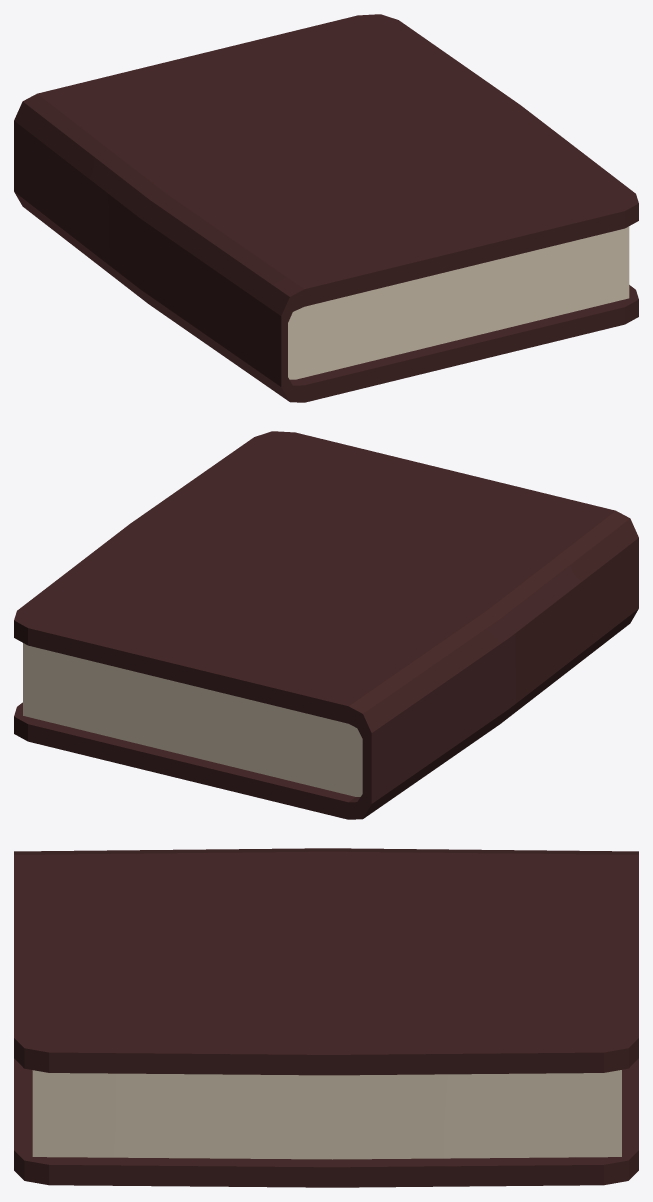
File: BookClosed_1.fbx
3 renders of one model, top to bottom at view 1: azimuth 30°, elevation 25°; view 2: azimuth 150°, elevation 25°; view 3: azimuth 270°, elevation 25°, orthographic. The views are drawn at different scales.
Parts seen in each view (by area): view 1: BookClosed_1; view 2: BookClosed_1; view 3: BookClosed_1.
Boxes of the visible parts, bbox=[...] form: BookClosed_1: bbox=[14, 14, 638, 402]; BookClosed_1: bbox=[14, 431, 638, 819]; BookClosed_1: bbox=[14, 848, 638, 1187].
Size of the model in its own units: 84.4 by 24.11 by 103.
